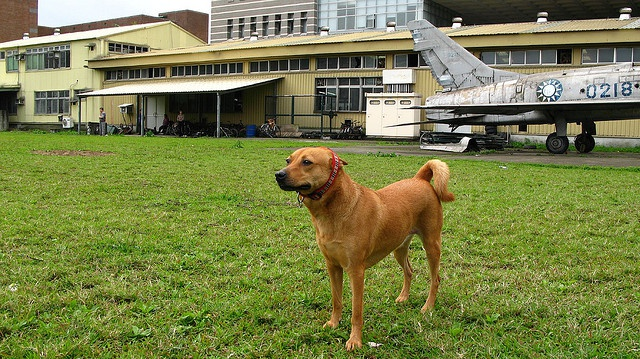non-vehicle: (261, 116, 281, 137), (214, 126, 238, 138)
